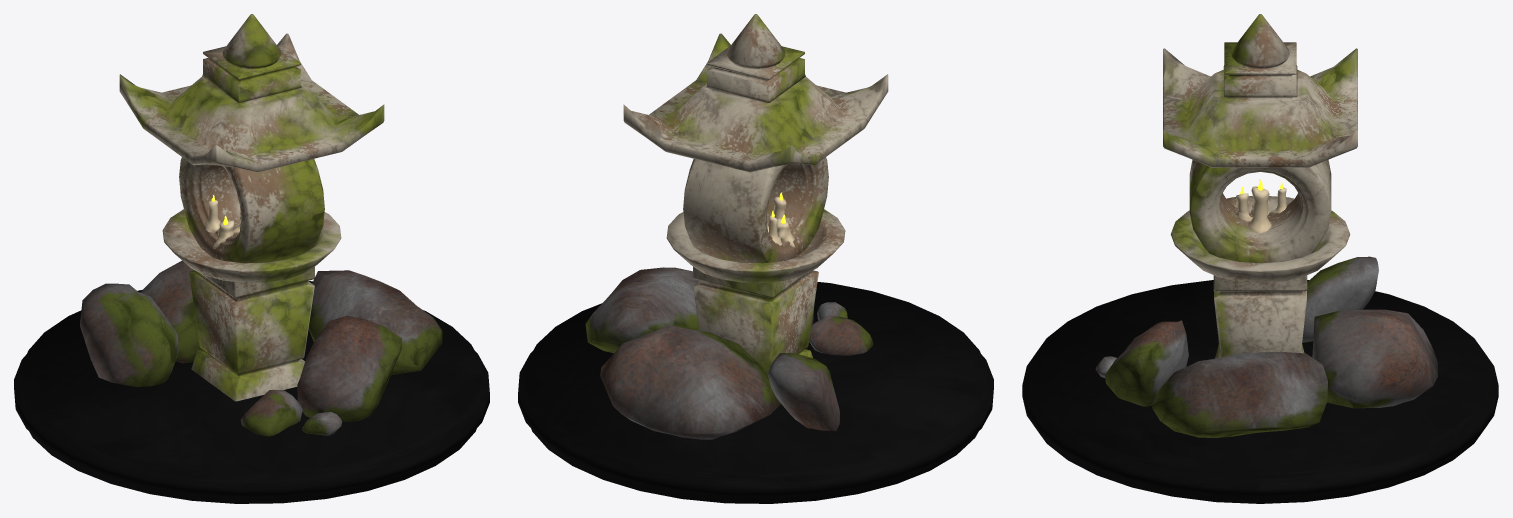
The model's file is stone_japanese_lantern.glb.
3 renders of one model, left to right at view 1: azimuth 30°, elevation 25°; view 2: azimuth 150°, elevation 25°; view 3: azimuth 270°, elevation 25°, orthographic.
Visible parts, largest first — view 1: Additionals; view 2: Additionals; view 3: Additionals.
Part boxes in pixels (<box>): Additionals: <box>14,14,489,503</box>; Additionals: <box>518,14,993,503</box>; Additionals: <box>1022,14,1498,503</box>.
Size of the model in its own units: 970 by 879 by 970.
1 material, 1 textured.
